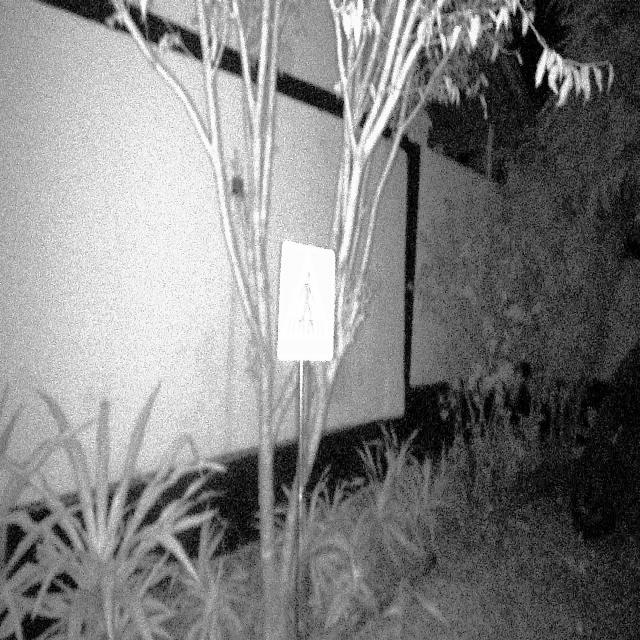Sign: (275, 239, 337, 365)
